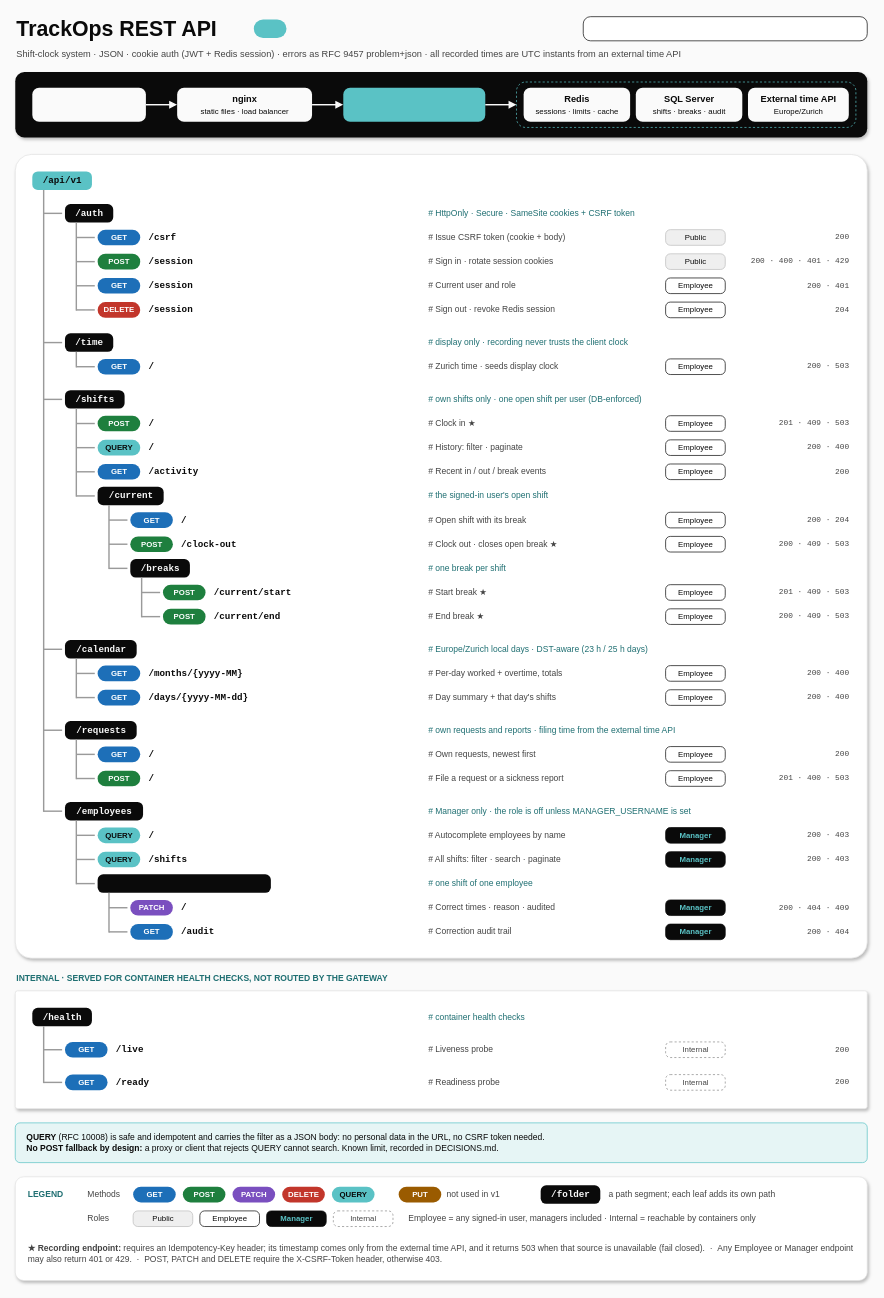
Image size: 884x1298. Some labels were removed from this diagram. The centre of each missing label's shape, as x and y in pixels:
/{userId}/shifts/{shiftId}: point (184, 883)
ASP.NET Core API × 2 stateless · async: point (414, 104)
Base URL http://localhost:8080/api/v1: point (725, 28)
Browser React SPA · Hebrew RTL: point (89, 104)
v1: point (269, 28)
